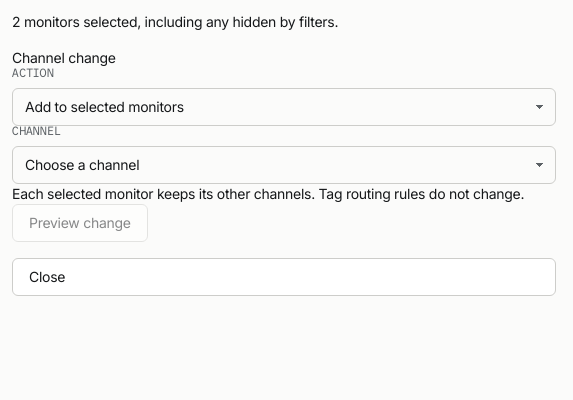
invalidates a completed preview when the action changes
This screenshot has width=573, height=400.
Select "Ops · Slack" in the dropdown labelled "Channel" at [284, 165], box 12,146 -> 556,184
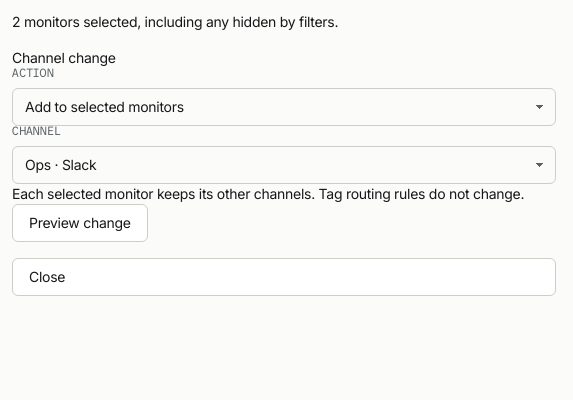
Click the button "Preview change" at [80, 223], box 12,204 -> 148,242
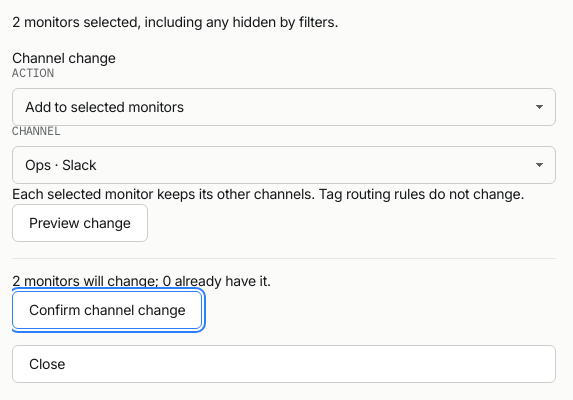
Now the button "Confirm channel change" is shown, box 12,291 -> 202,329
Select "Remove from selected monitors" in the dropdown labelled "Action" at [284, 107], box 12,88 -> 556,126
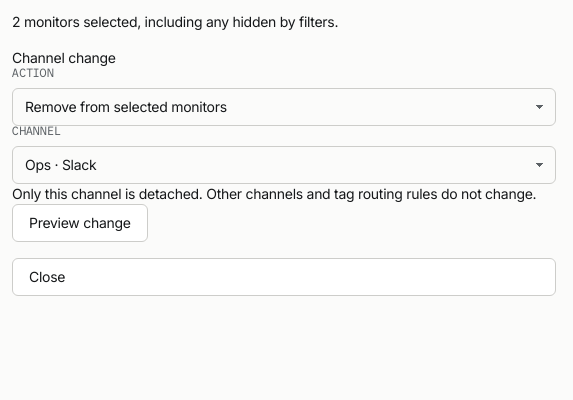
Now the button "Confirm channel change" is gone
